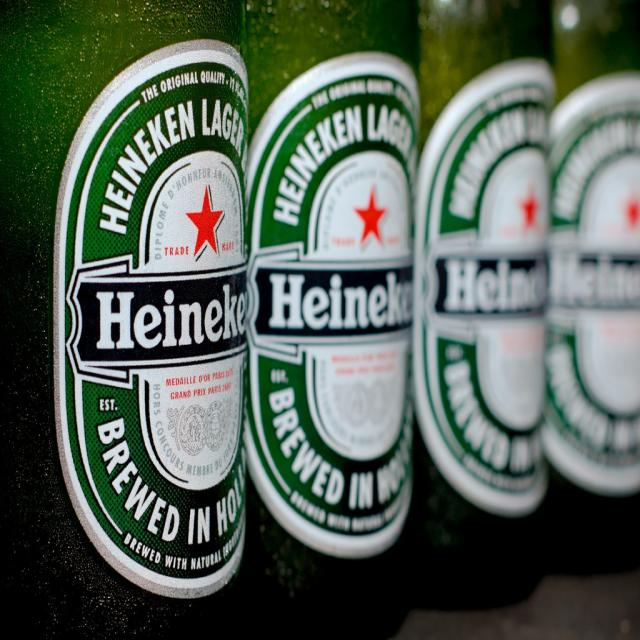heineken: (54, 40, 250, 603), (247, 51, 421, 559), (414, 56, 556, 519), (544, 70, 640, 496)
